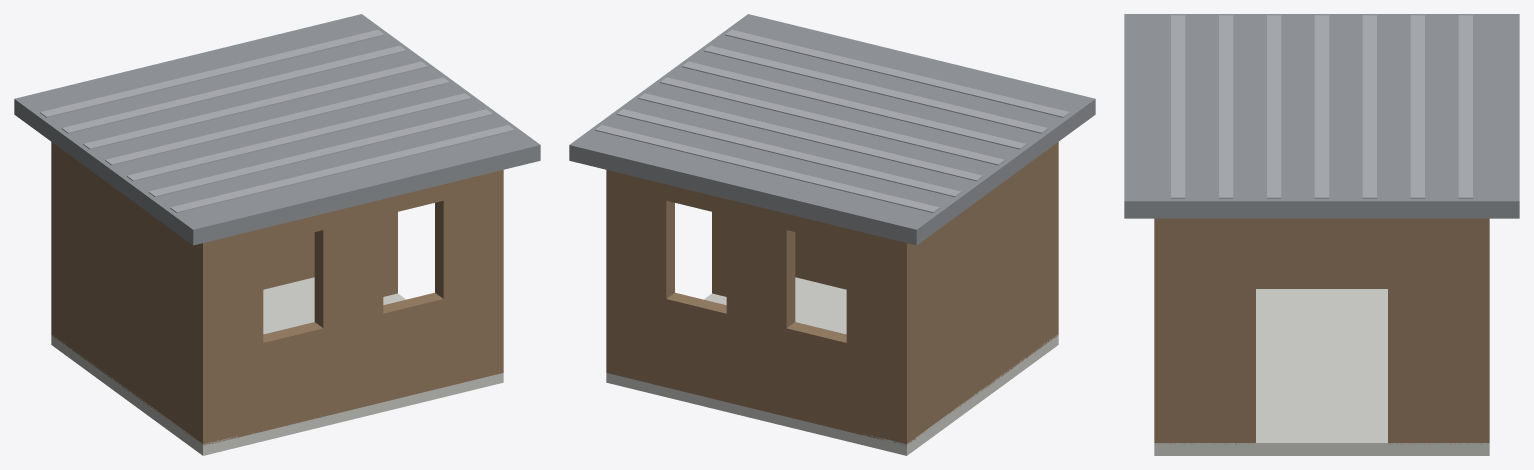
Rendered from shed.glb.
3 views of the same model, side by side, from view 1: azimuth 30°, elevation 25°; view 2: azimuth 150°, elevation 25°; view 3: azimuth 270°, elevation 25° (orthographic). The views are drawn at different scales.
Parts seen in each view (by area): view 1: shed; view 2: shed; view 3: shed.
Part boxes in pixels (<box>): shed: <box>14,14,540,455</box>; shed: <box>569,14,1095,455</box>; shed: <box>1124,14,1519,455</box>.
Size of the model in its own units: 3.7 by 2.47 by 3.3.
